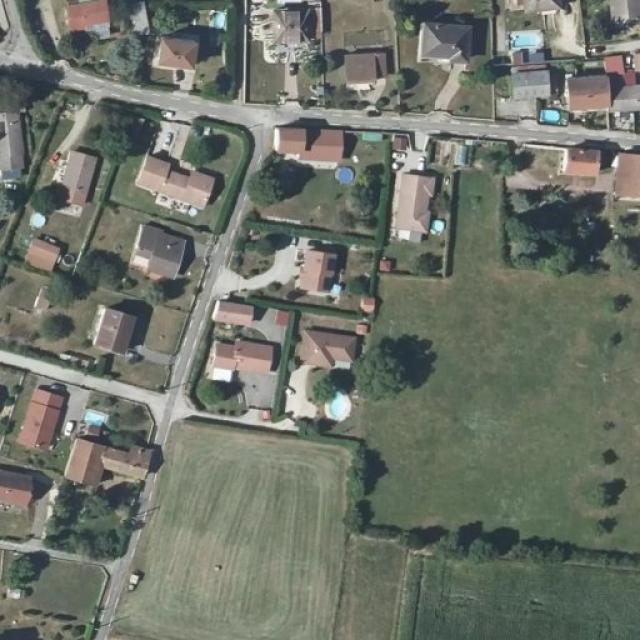maison: (210, 304, 284, 411), (293, 228, 350, 312), (132, 156, 216, 210), (297, 318, 362, 382), (12, 373, 65, 449), (126, 223, 188, 282), (82, 303, 142, 359), (394, 164, 434, 240), (275, 124, 346, 166), (61, 1, 128, 41), (418, 21, 476, 66), (341, 44, 394, 92), (53, 147, 96, 205), (61, 435, 104, 488), (0, 111, 28, 183), (567, 76, 611, 112), (20, 236, 60, 275), (0, 467, 34, 511), (104, 444, 148, 477), (158, 33, 194, 69), (616, 153, 640, 207), (507, 72, 559, 94), (564, 150, 595, 177)
piscine: (504, 22, 556, 58), (320, 380, 358, 428), (533, 100, 566, 131), (22, 208, 54, 238), (206, 8, 237, 34), (75, 407, 109, 430), (331, 164, 363, 187), (422, 217, 452, 238)
villa: (247, 0, 329, 71)
